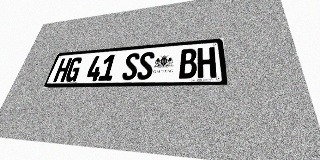1: (98, 54, 117, 81)
4: (85, 55, 105, 81)
B: (179, 48, 197, 79)
G: (64, 57, 84, 82)
H: (197, 47, 216, 78), (53, 58, 72, 82)
S: (136, 51, 155, 80), (121, 53, 140, 80)
